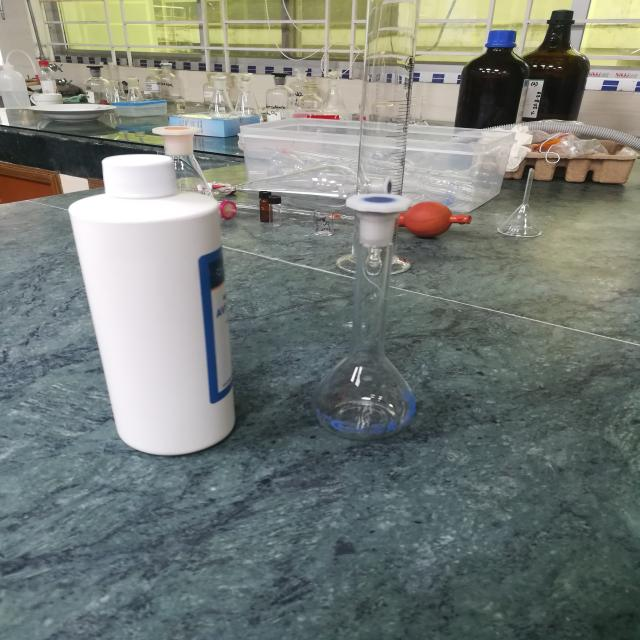Volumetric_Flask: (295, 160, 459, 463)
